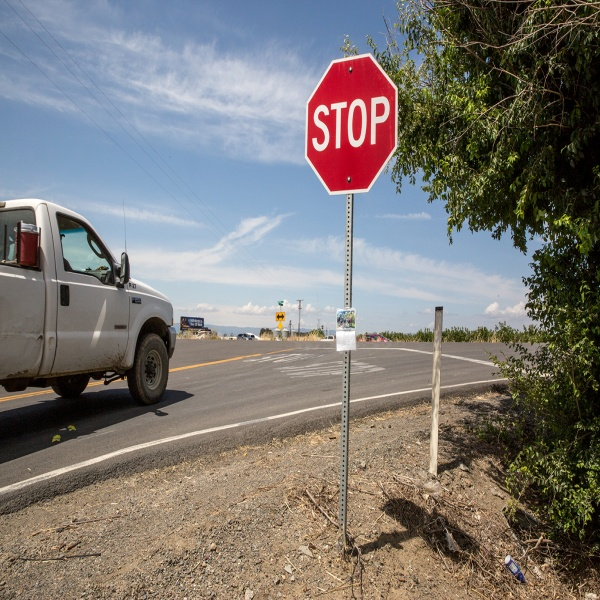stop: (303, 54, 397, 198)
